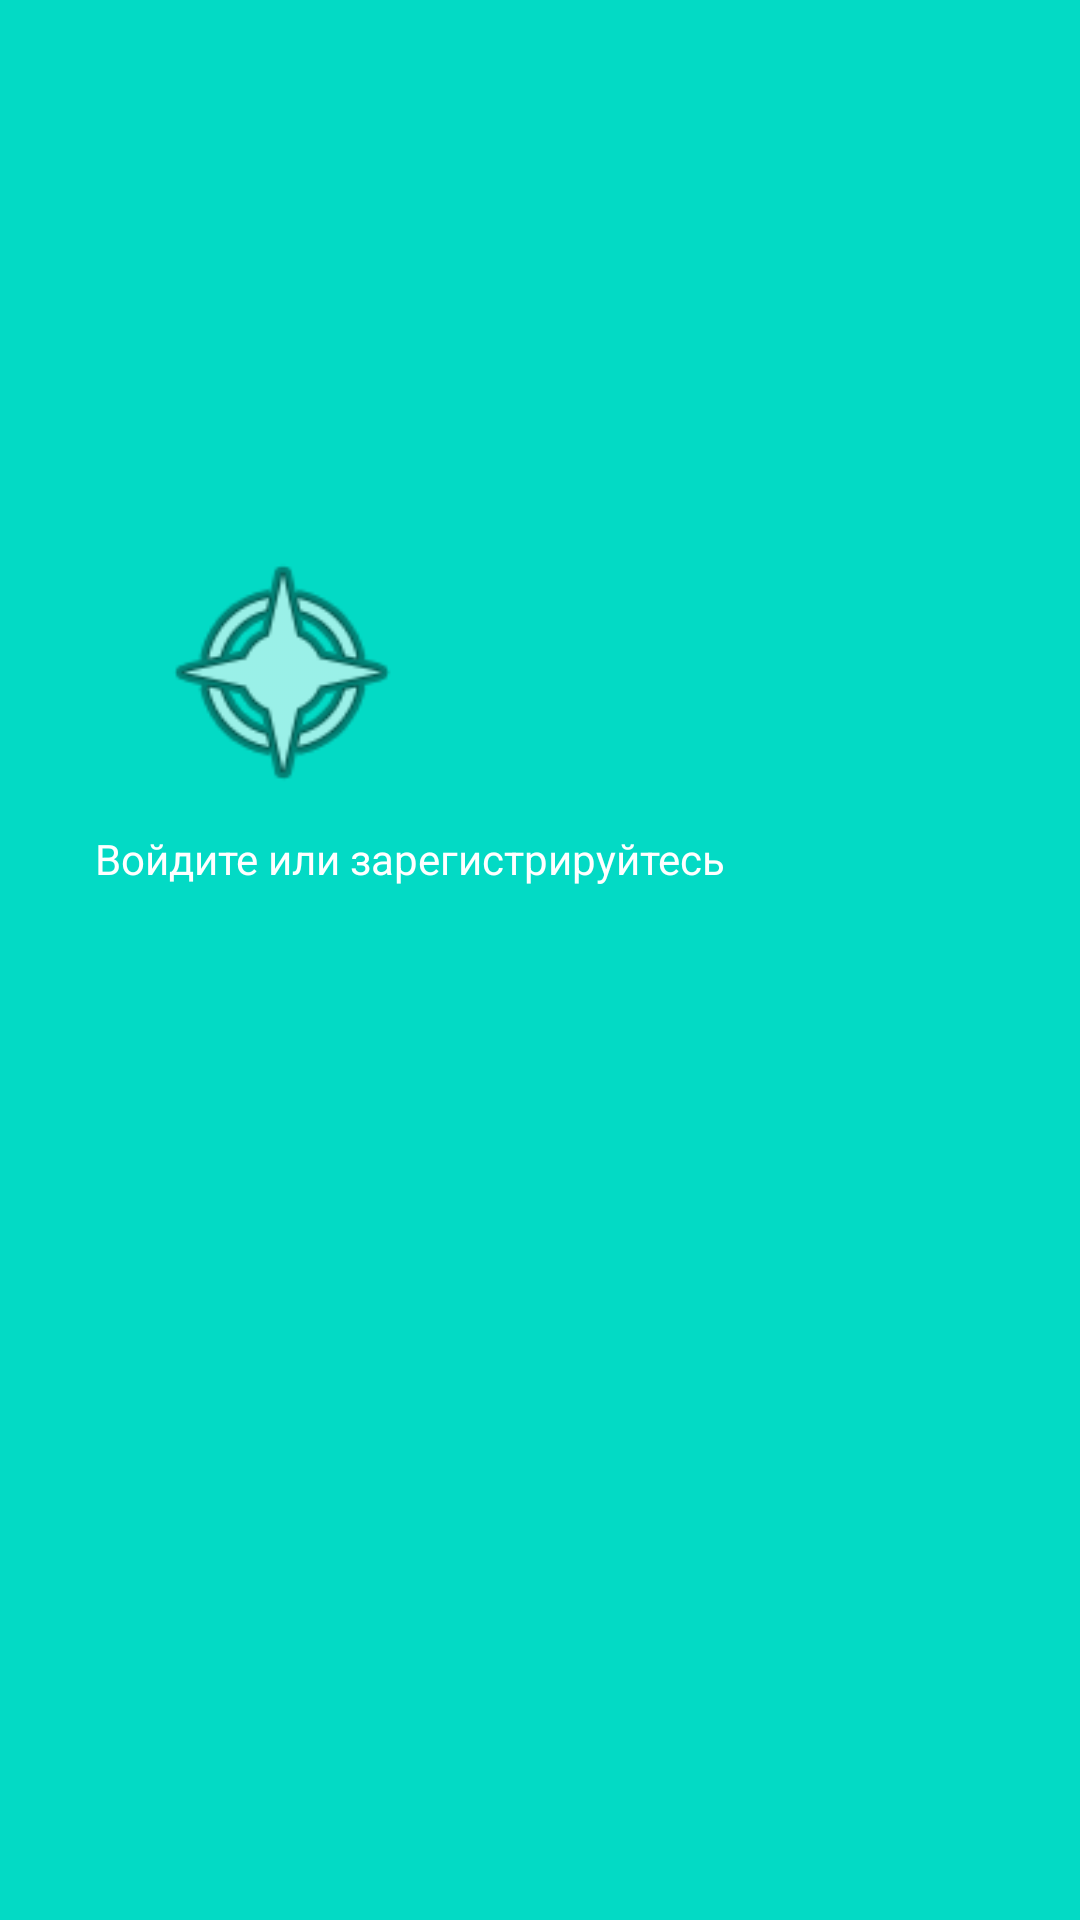

Locate icon controls on the screen. Image size 1080 x 1920, boxes as (x1, y1, x2, y2).
compass: (175, 566, 389, 779)
